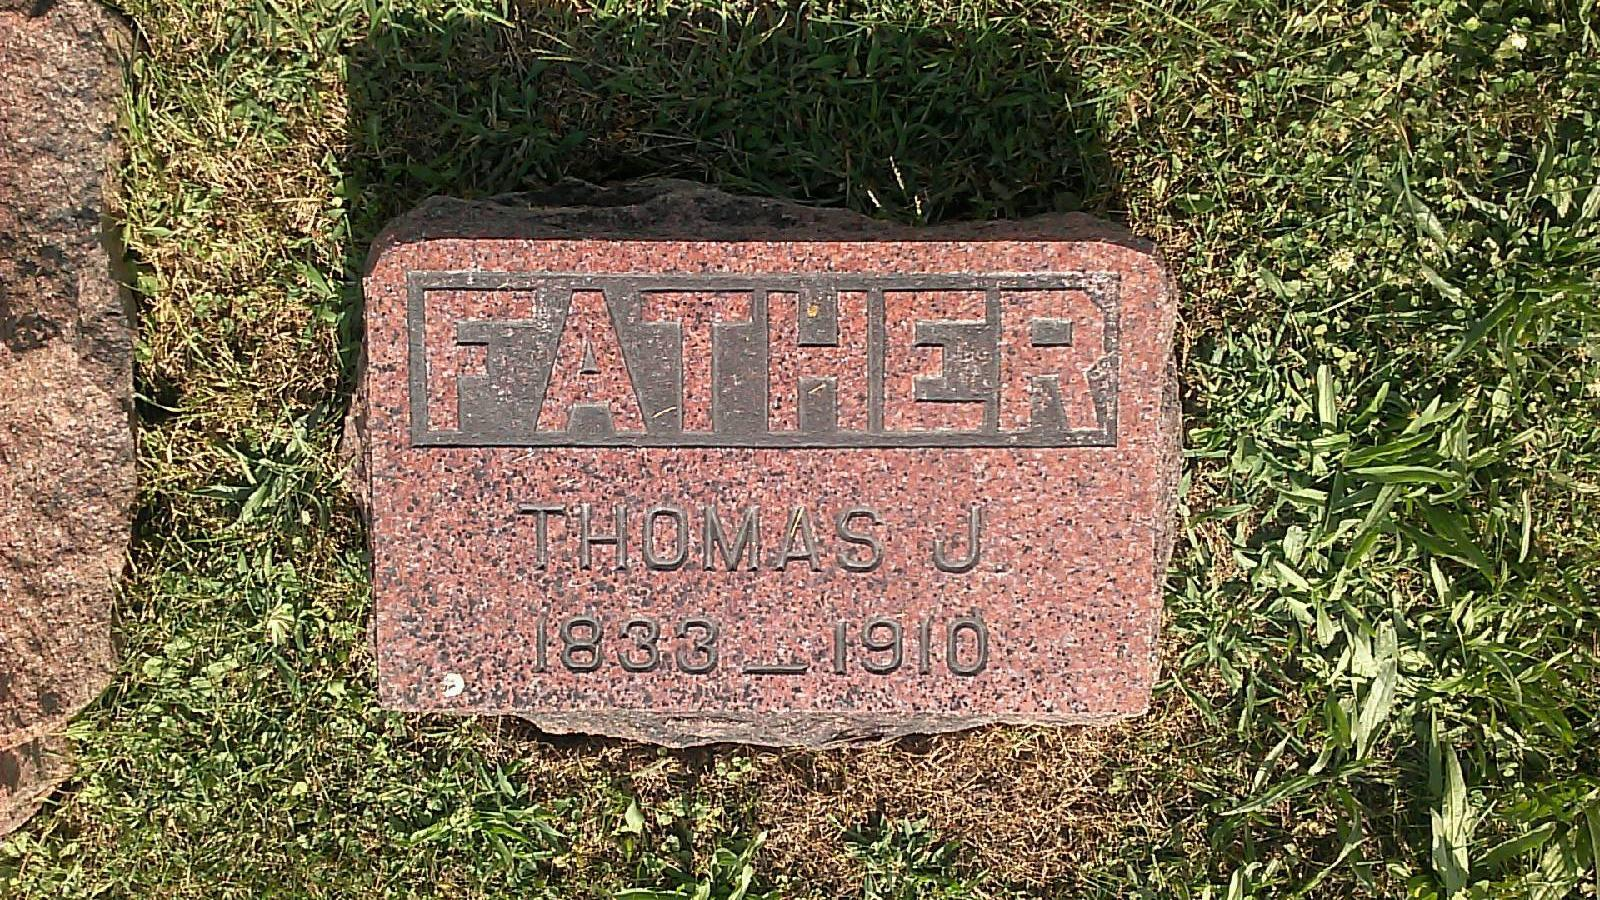flat: (363, 208, 1174, 730)
